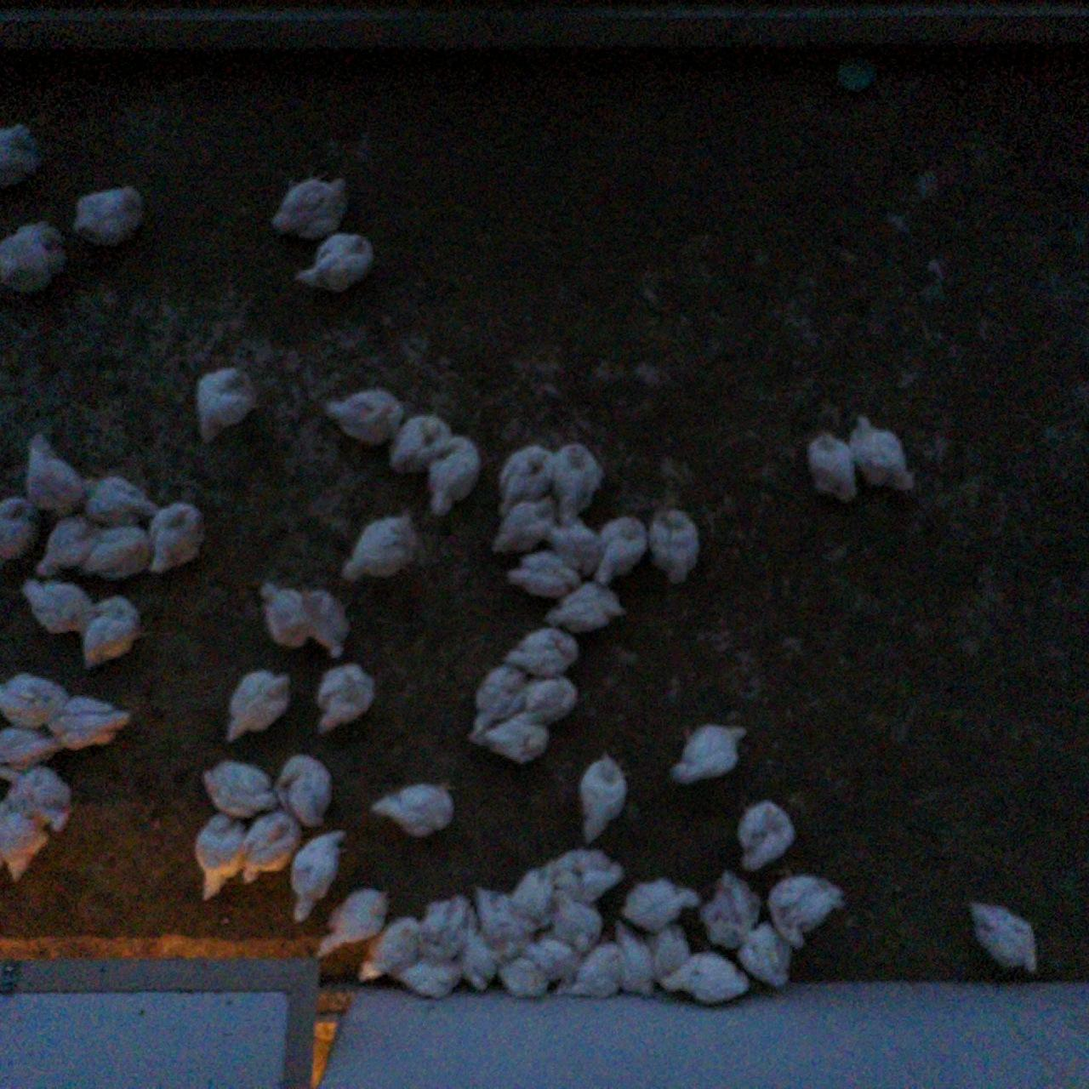chicken: (849, 413, 918, 496), (369, 774, 456, 839), (0, 218, 72, 296), (269, 174, 351, 242), (23, 431, 86, 518), (770, 874, 843, 948), (345, 512, 422, 582), (316, 888, 390, 960), (657, 949, 747, 1007), (292, 827, 348, 918), (672, 718, 748, 785), (355, 908, 423, 982), (239, 811, 303, 889), (204, 758, 283, 821), (970, 902, 1038, 974), (498, 442, 558, 523), (325, 385, 403, 447), (195, 810, 247, 903), (294, 232, 378, 289), (277, 751, 336, 832), (82, 596, 146, 670), (9, 767, 77, 836), (73, 183, 144, 249), (415, 886, 479, 958), (579, 752, 628, 846), (225, 672, 294, 738), (622, 873, 700, 931), (700, 871, 760, 946), (547, 445, 602, 525), (737, 798, 795, 873), (52, 692, 133, 745), (195, 367, 252, 442), (557, 941, 627, 1002), (429, 435, 480, 518), (317, 664, 376, 735), (82, 472, 158, 527), (476, 878, 536, 946), (547, 579, 627, 630), (739, 922, 798, 990), (650, 507, 702, 584), (808, 428, 859, 506), (593, 518, 651, 586), (152, 503, 206, 576), (505, 625, 582, 676), (552, 843, 626, 896), (256, 579, 311, 650), (0, 672, 71, 727), (24, 575, 91, 633), (508, 552, 590, 599), (474, 659, 529, 729), (83, 525, 151, 581), (0, 806, 48, 885), (38, 513, 93, 581), (392, 416, 454, 476), (471, 717, 550, 764), (615, 925, 661, 1005), (0, 721, 65, 777), (493, 498, 556, 555), (508, 861, 563, 925), (304, 587, 353, 657), (509, 674, 581, 720), (397, 954, 466, 998), (0, 491, 37, 572), (554, 523, 604, 579), (0, 122, 42, 188), (496, 958, 552, 1001), (459, 939, 506, 990), (557, 900, 607, 946), (650, 924, 694, 975)
